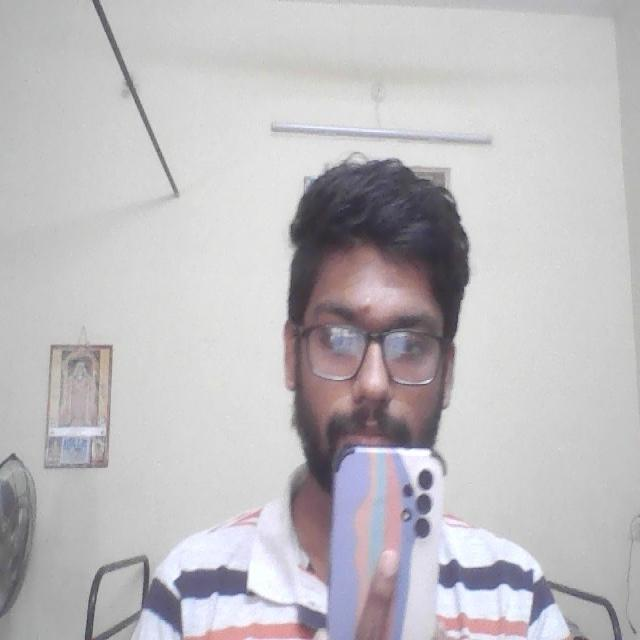Mobile: (332, 443, 442, 640)
